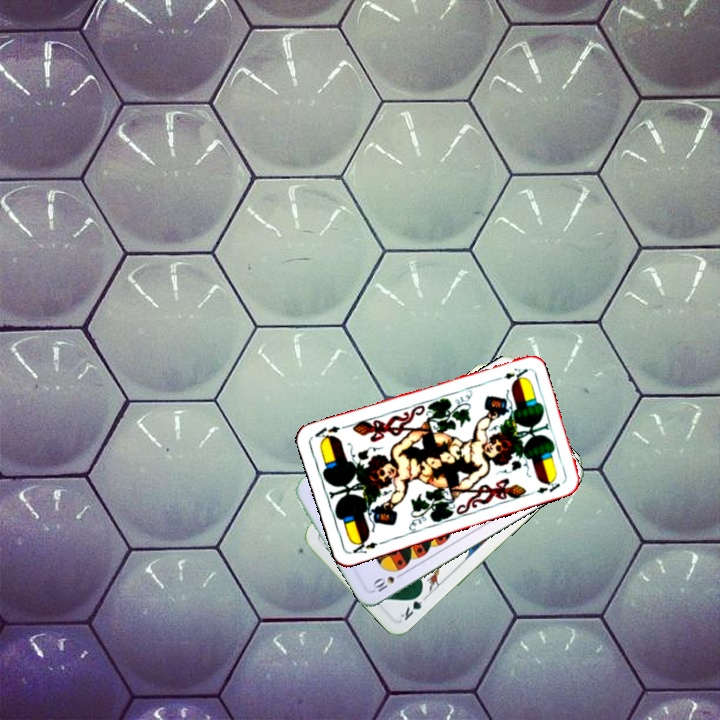EA: (490, 364, 530, 384), (349, 535, 387, 556)
GK: (396, 588, 430, 623)
S10: (368, 568, 407, 594)
